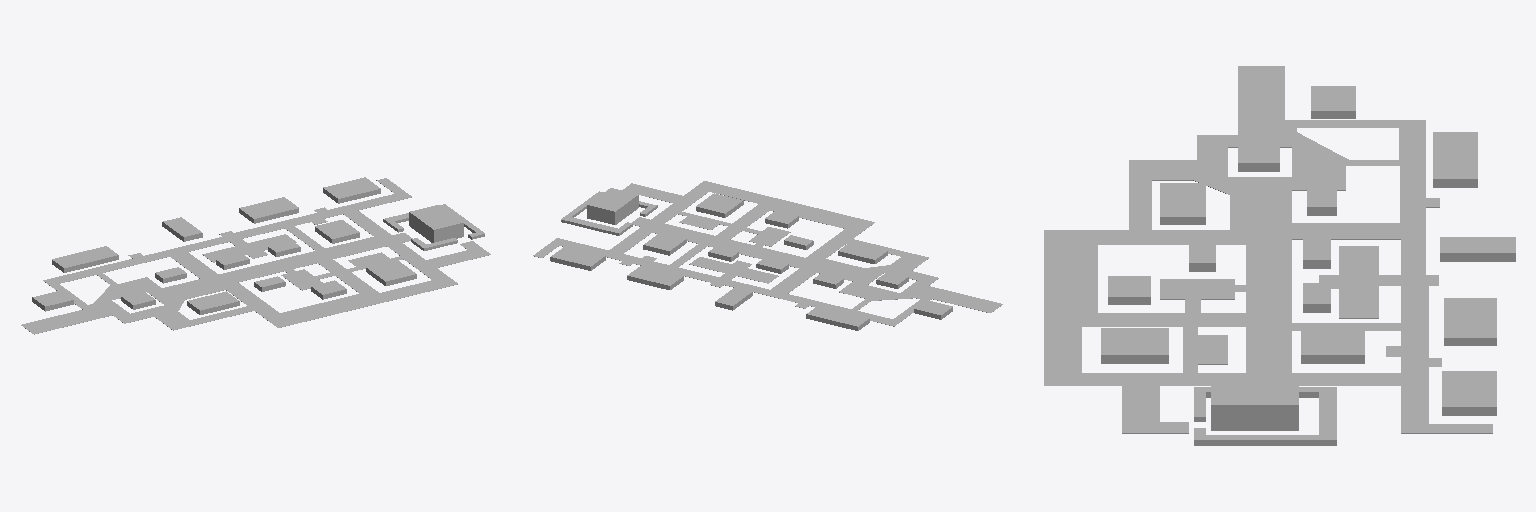
URDF robot description (environment):
<?xml version="1.0" ?>
<robot name="environment">
<link name="buildings">
  <inertial>
    <origin rpy="0 0 4.71238898" xyz="0 0 0"/>
    <mass value="1"/>
    <inertia ixx="0" ixy="0" ixz="0" iyy="0" iyz="0" izz="0"/>
  </inertial>
  <visual>
    <origin rpy="0 0 4.71238898" xyz="0 0 0"/>
    <geometry>
      <mesh filename="./meshes/exact_map.obj"/>
    </geometry>
    <material name="silver">
      <color rgba="0.75 0.75 0.75 1"/>
    </material>
  </visual>
  <collision>
      <origin rpy="0 0 4.71238898" xyz="0 0 0" />
      <geometry>
      <mesh filename="./meshes/exact_map_output.obj"/>
    </geometry>
  </collision>
</link>
<!--
<joint name="buildings_roads" type="fixed">
    <parent link="buildings"/>
    <child link="roads"/>
</joint>

<link name="roads">
  <inertial>
    <origin rpy="0 0 0" xyz="0 0 0"/>
    <mass value="1"/>
    <inertia ixx="0" ixy="0" ixz="0" iyy="0" iyz="0" izz="0"/>
  </inertial>
  <visual>
    <origin rpy="0 0 0" xyz="0 0 0"/>
    <geometry>
      <mesh filename="./meshes/roads.obj"  scale="0.1 0.1 0.1" />
    </geometry>
    <material name="silver">
      <color rgba="0.5 0.5 0.5 1"/>
    </material>
  </visual>
  <collision>
      <origin rpy="0 0 0" xyz="0 0 0" />
      <geometry>
      <mesh filename="./meshes/roads_collision.obj"  scale="0.1 0.1 0.1" />
    </geometry>
  </collision>
</link> -->


</robot>

--- Facts derived from the render (not from the file) ---
Views: 3 orthographic renders of the robot side by side, from view 1: azimuth 30°, elevation 25°; view 2: azimuth 150°, elevation 25°; view 3: azimuth 270°, elevation 25°.
Robot: environment — 1 links, 0 joints (none); root link buildings; default pose: all joints at 0.
Visible links, largest first — view 1: buildings; view 2: buildings; view 3: buildings.
Boxes of the visible links, box(x1,y1,x2,y2) form: buildings: box(21, 177, 490, 334); buildings: box(533, 181, 1002, 330); buildings: box(1044, 66, 1515, 445).
Size in the robot's own frame: 240 by 126 by 7.6 metres.
Meshes: 1 distinct files referenced, 1 mesh visuals loaded (1 OBJ).